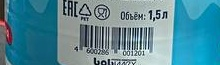1d: (78, 23, 156, 50)
